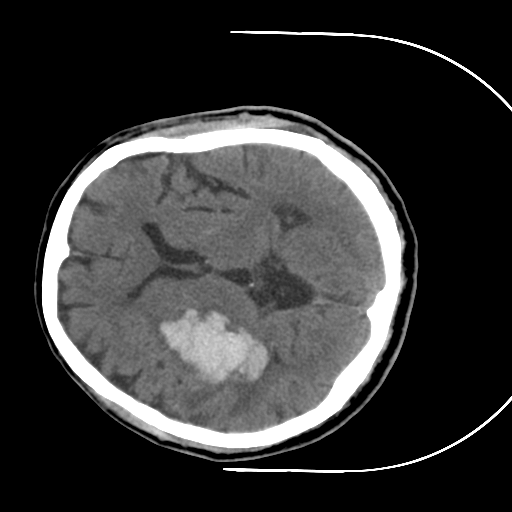a: (134, 286, 295, 420)
